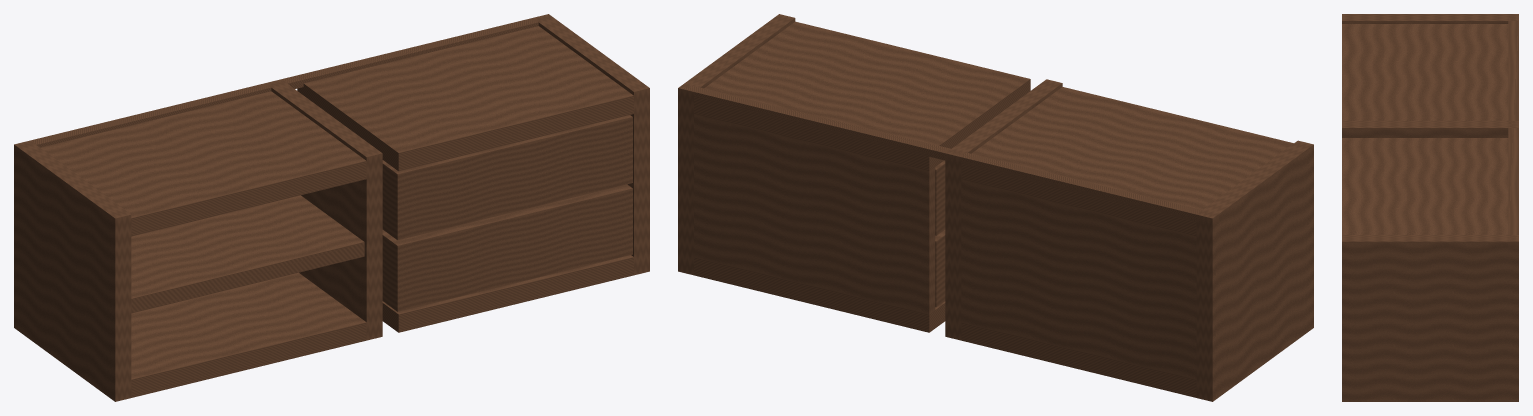
The picture shows the model from 3 angles, left to right: view 1: azimuth 30°, elevation 25°; view 2: azimuth 150°, elevation 25°; view 3: azimuth 270°, elevation 25°; orthographic projection. The views are drawn at different scales.
Visible parts, largest first — view 1: 8 right_top_panel, 2 left_top_panel, 1 left_outer_panel, 12 bottom_drawer, 3 left_bottom_panel, 11 top_drawer, 5 left_middle_shelf, 6 center_divider, 9 right_bottom_panel, 13 back_top_lip, 7 right_outer_panel; view 2: 10 right_back_panel, 4 left_back_panel, 8 right_top_panel, 2 left_top_panel, 1 left_outer_panel, 13 back_top_lip, 6 center_divider, 7 right_outer_panel, 9 right_bottom_panel, 3 left_bottom_panel, 12 bottom_drawer, 11 top_drawer; view 3: 7 right_outer_panel, 2 left_top_panel, 8 right_top_panel, 6 center_divider, 13 back_top_lip, 1 left_outer_panel.
Part boxes in pixels (x1=…): 8 right_top_panel: x1=297, y1=26, x2=633, y2=171; 2 left_top_panel: x1=40, y1=91, x2=366, y2=236; 1 left_outer_panel: x1=14, y1=141, x2=131, y2=401; 12 bottom_drawer: x1=382, y1=184, x2=632, y2=311; 3 left_bottom_panel: x1=131, y1=272, x2=366, y2=397; 11 top_drawer: x1=382, y1=115, x2=632, y2=240; 5 left_middle_shelf: x1=131, y1=195, x2=364, y2=313; 6 center_divider: x1=266, y1=79, x2=382, y2=340; 9 right_bottom_panel: x1=382, y1=255, x2=633, y2=332; 13 back_top_lip: x1=14, y1=14, x2=553, y2=151; 7 right_outer_panel: x1=533, y1=14, x2=649, y2=275; 10 right_back_panel: x1=694, y1=114, x2=935, y2=314; 4 left_back_panel: x1=961, y1=179, x2=1196, y2=379; 8 right_top_panel: x1=694, y1=21, x2=1030, y2=171; 2 left_top_panel: x1=961, y1=87, x2=1293, y2=236; 1 left_outer_panel: x1=1196, y1=140, x2=1313, y2=401; 13 back_top_lip: x1=678, y1=85, x2=1218, y2=225; 6 center_divider: x1=945, y1=79, x2=1062, y2=340; 7 right_outer_panel: x1=678, y1=14, x2=795, y2=275; 9 right_bottom_panel: x1=694, y1=257, x2=945, y2=332; 3 left_bottom_panel: x1=961, y1=322, x2=1196, y2=397; 12 bottom_drawer: x1=935, y1=230, x2=945, y2=307; 11 top_drawer: x1=935, y1=160, x2=945, y2=235; 7 right_outer_panel: x1=1342, y1=235, x2=1518, y2=401; 2 left_top_panel: x1=1342, y1=24, x2=1508, y2=120; 8 right_top_panel: x1=1342, y1=138, x2=1508, y2=234; 6 center_divider: x1=1342, y1=121, x2=1518, y2=137; 13 back_top_lip: x1=1508, y1=14, x2=1518, y2=248; 1 left_outer_panel: x1=1342, y1=14, x2=1518, y2=23.
Size of the model in its own units: 3.05 by 1 by 1.
Materials: 1 (1 with a texture image).
